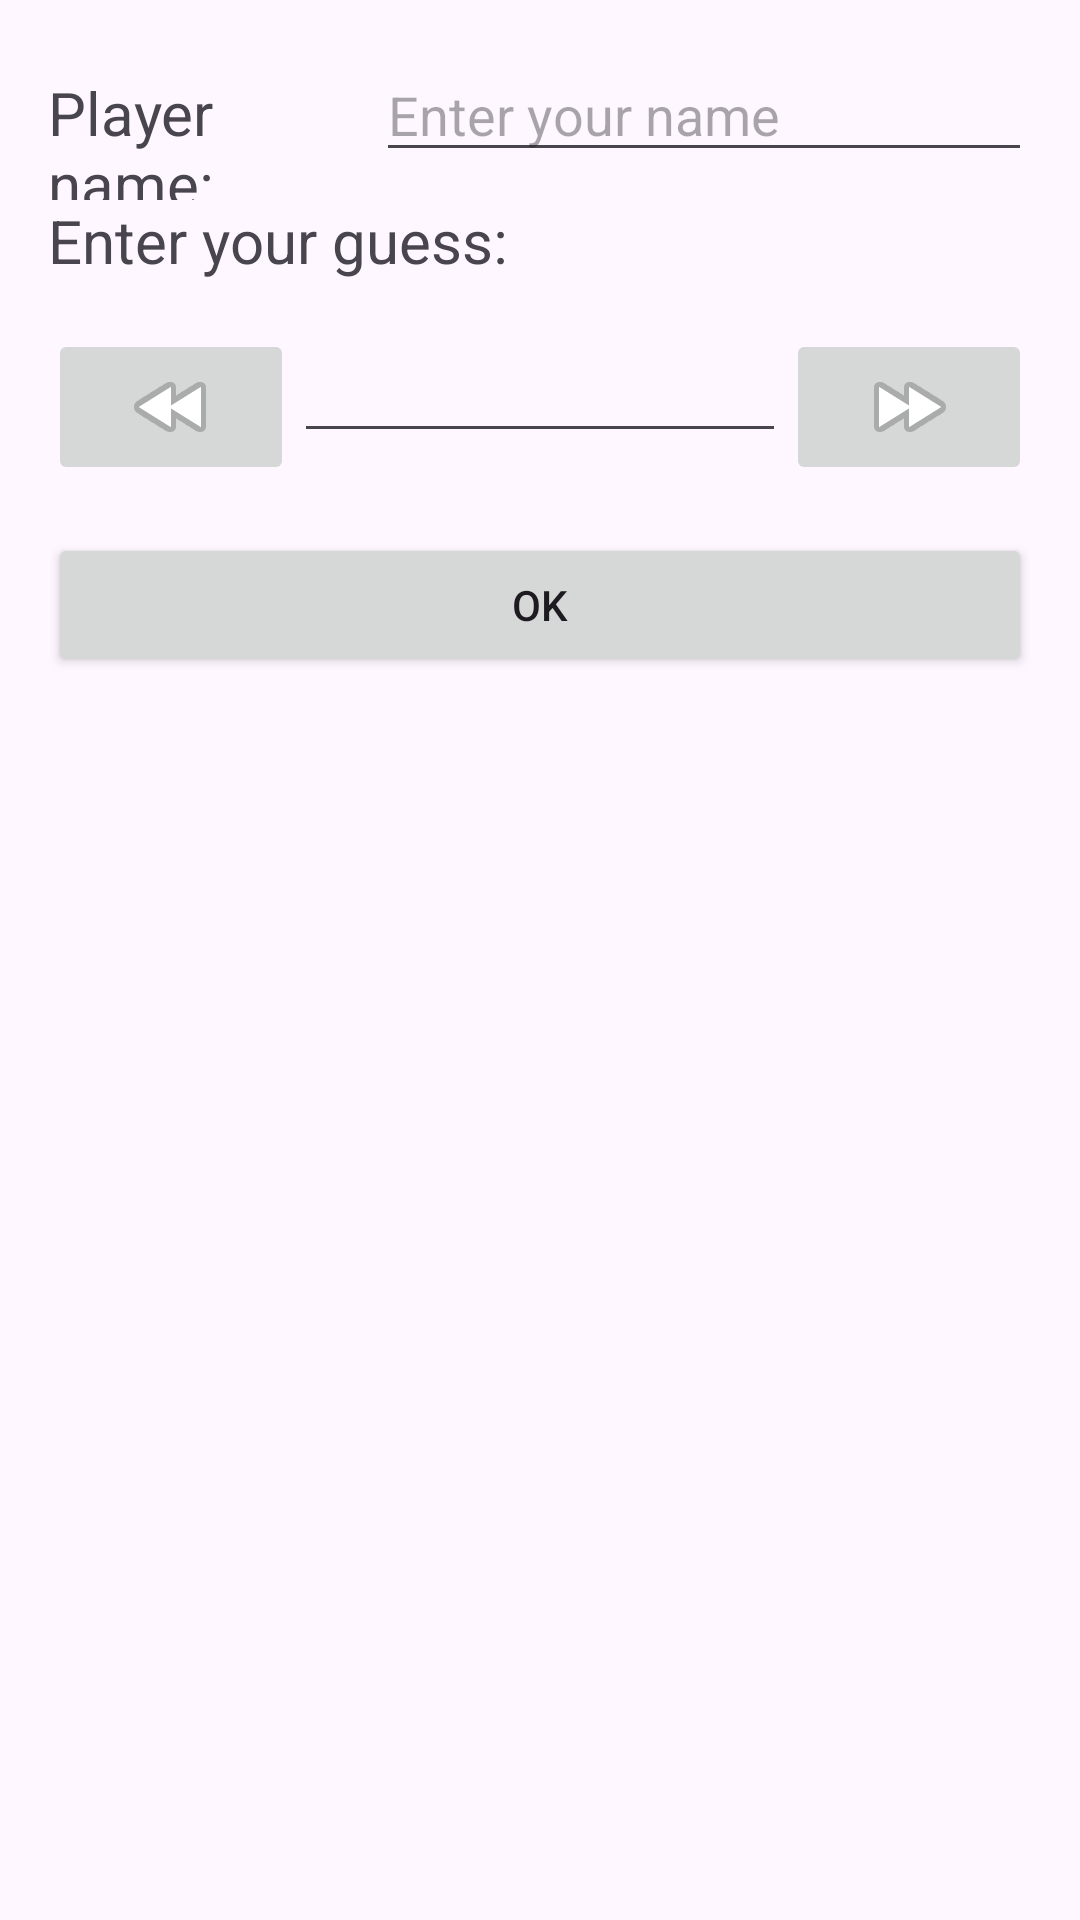

Icon click points for this 1080px x 1920px phone screenshot, format [x,y]:
rew: [171,407]
